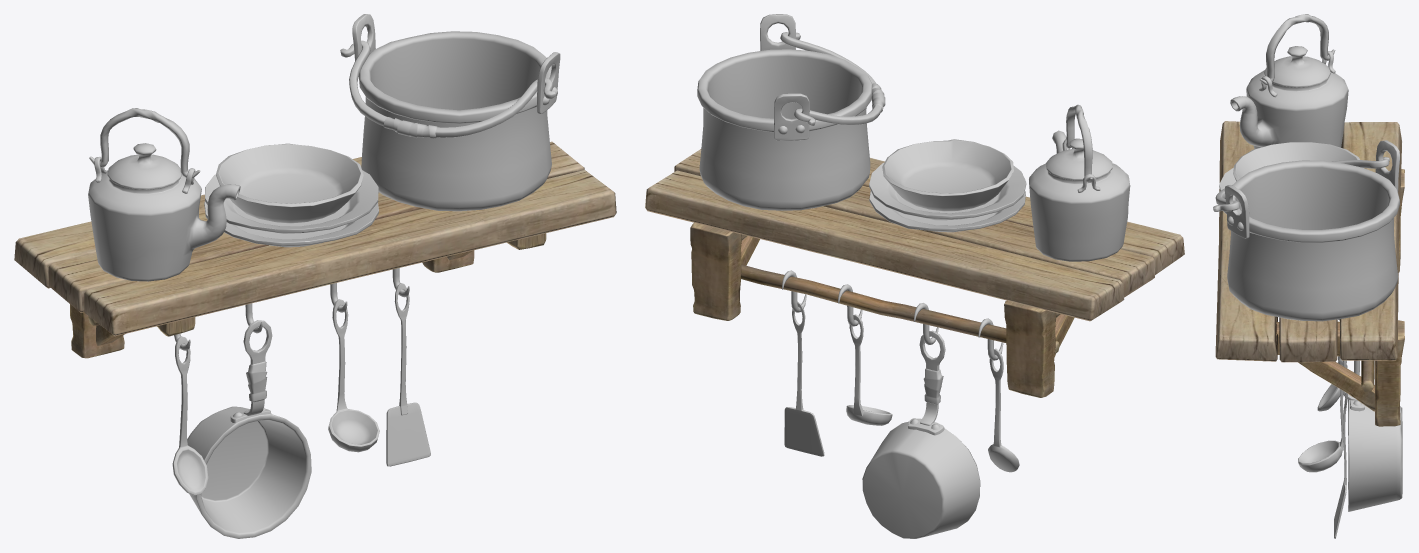
The picture shows the model from 3 angles, left to right: view 1: azimuth 30°, elevation 25°; view 2: azimuth 150°, elevation 25°; view 3: azimuth 270°, elevation 25°; orthographic projection. The views are drawn at different scales.
Parts seen in each view (by area): view 1: SM_Dec_Kitchen_Shelves_01_LOD0; view 2: SM_Dec_Kitchen_Shelves_01_LOD0; view 3: SM_Dec_Kitchen_Shelves_01_LOD0.
Boxes of the visible parts, x1=… form: SM_Dec_Kitchen_Shelves_01_LOD0: x1=14, y1=14, x2=616, y2=538; SM_Dec_Kitchen_Shelves_01_LOD0: x1=645, y1=14, x2=1184, y2=538; SM_Dec_Kitchen_Shelves_01_LOD0: x1=1213, y1=14, x2=1404, y2=538.
Bounding box in the file's own units: 1.67 × 1.52 × 0.6126.
